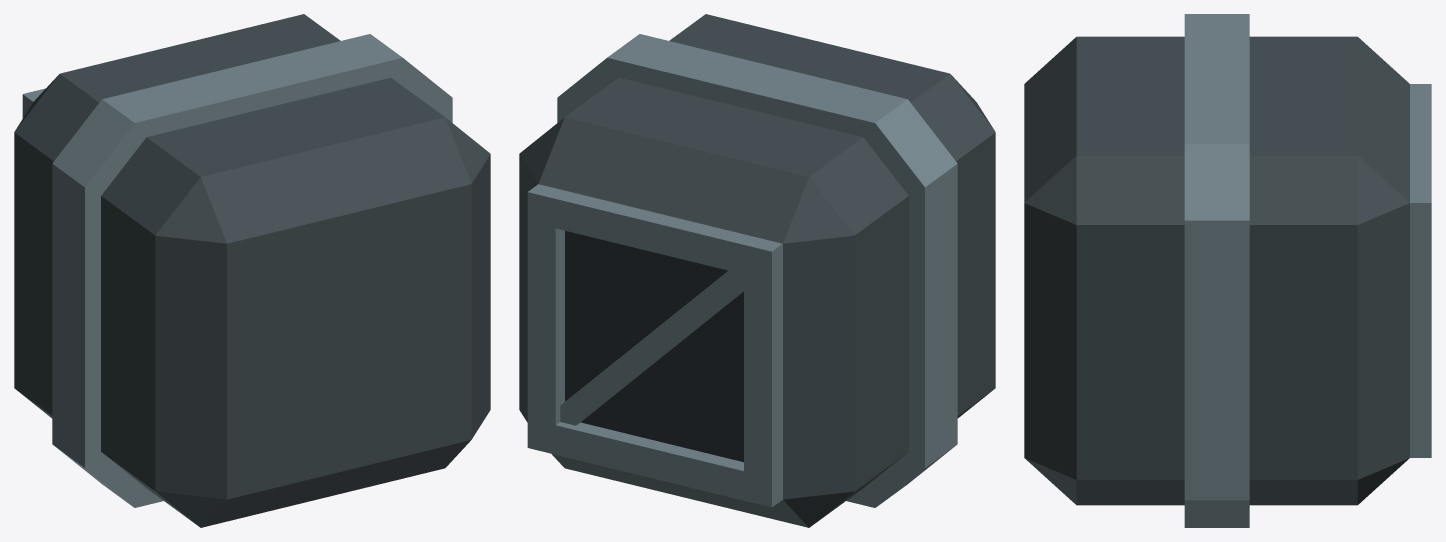
File: Crate 01.FBX
3 views of the same model, side by side, from view 1: azimuth 30°, elevation 25°; view 2: azimuth 150°, elevation 25°; view 3: azimuth 270°, elevation 25° (orthographic).
Parts seen in each view (by area): view 1: Crate 01; view 2: Crate 01; view 3: Crate 01.
Boxes of the visible parts, left/top/right/bottom form: Crate 01: left=14, top=14, right=490, bottom=527; Crate 01: left=519, top=14, right=995, bottom=527; Crate 01: left=1024, top=14, right=1431, bottom=527.
Bounding box in the file's own units: 110 × 110 × 106.
Materials: 1 (1 with a texture image).
